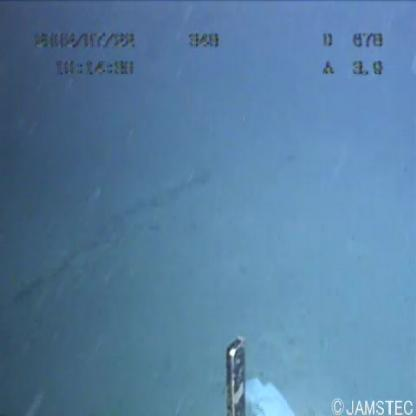Rov: (220, 333, 256, 416)
Rác: (242, 344, 314, 416)
